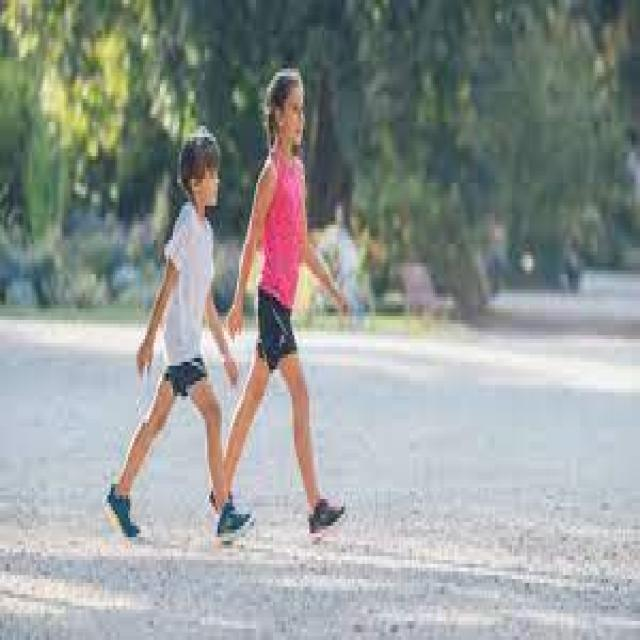Person: (210, 67, 349, 543), (105, 126, 252, 544)
